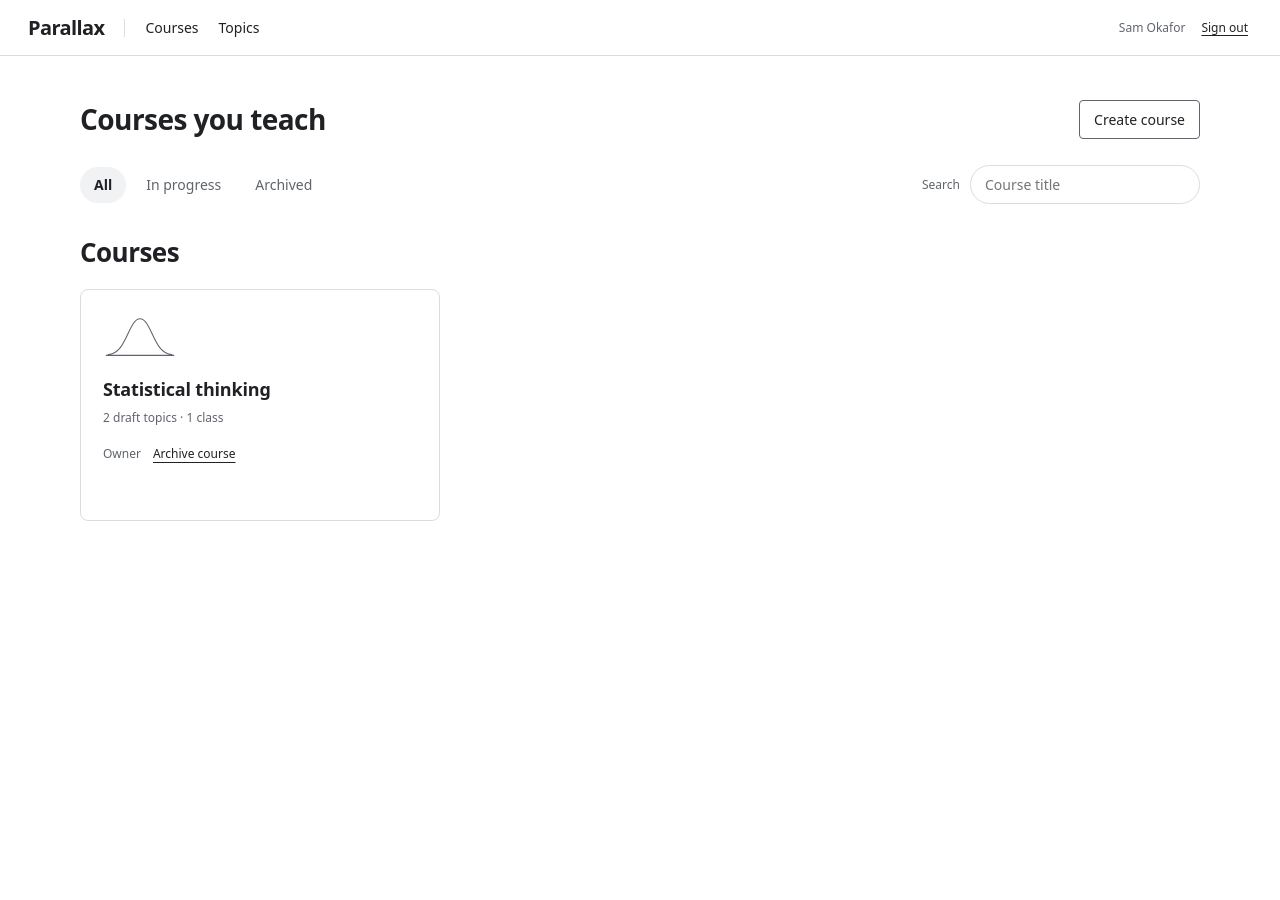
archive and restore › A21 Cancel and Escape do nothing while the request runs, and a failure is shown in the open dialog
This screenshot has width=1280, height=900.
Click the button with aria-label "Archive course Statistical thinking" at (194, 454), box [153,442,236,466]
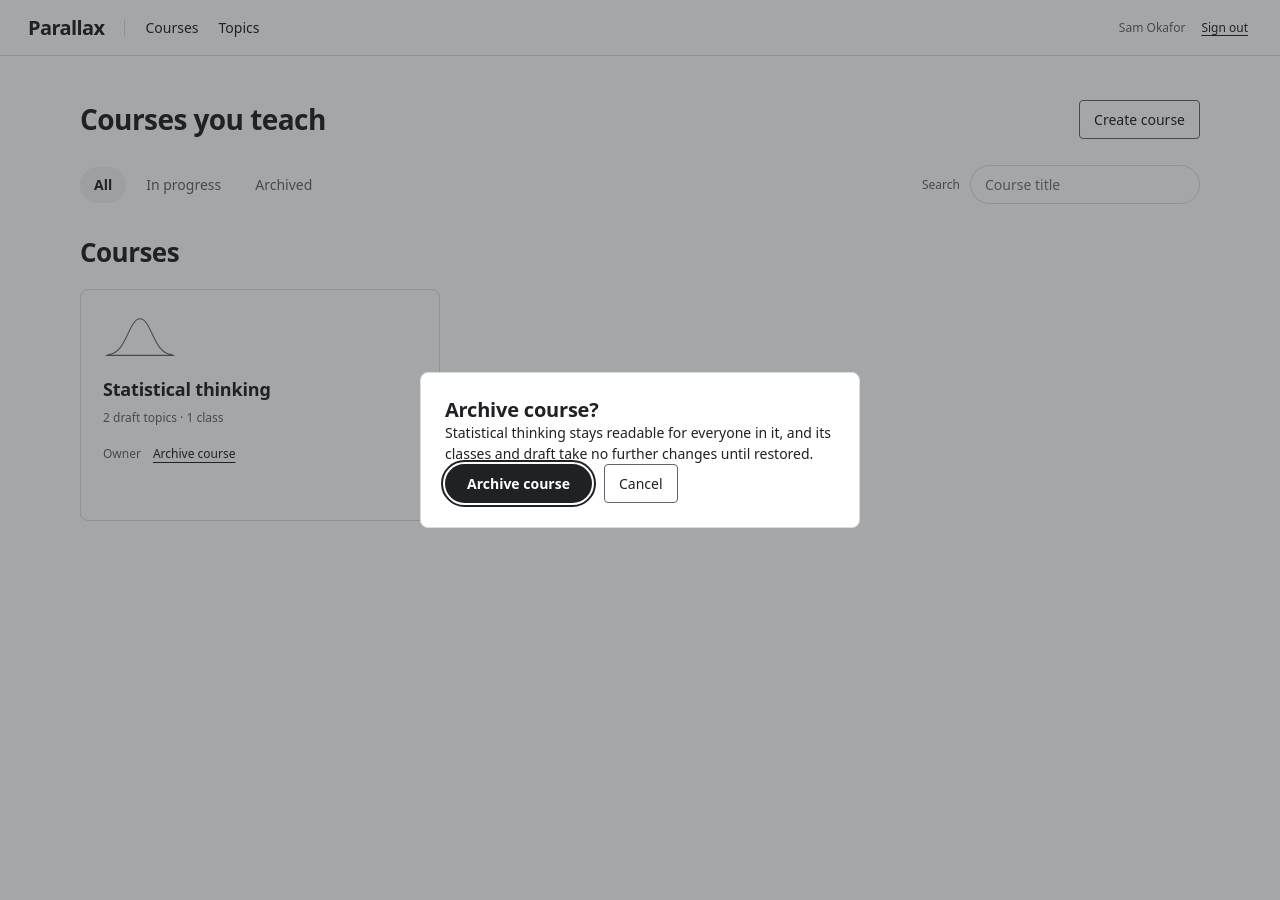
Click the button "Archive course" at (518, 484), box [445,464,592,503]
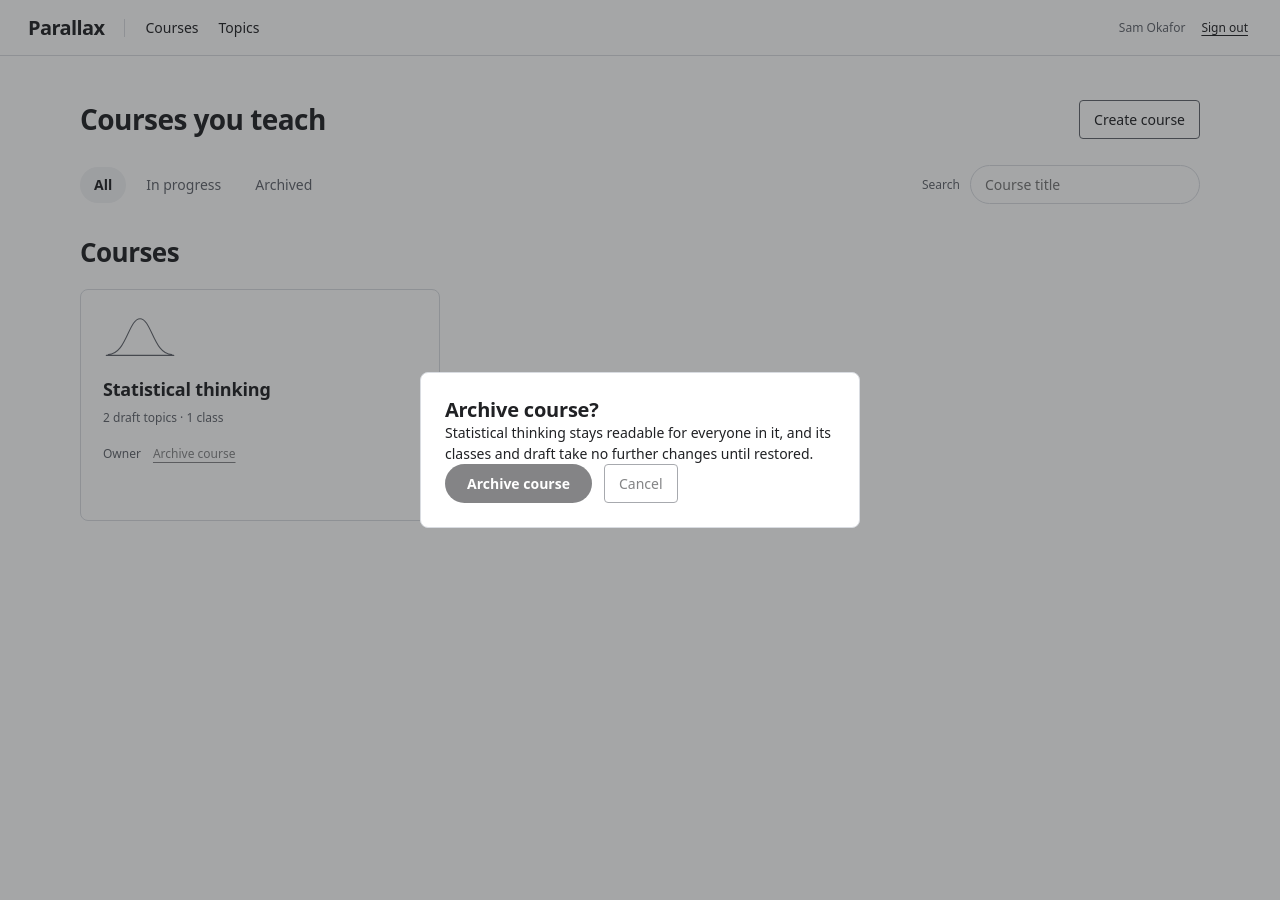
expect the button "Cancel" is disabled: met, box [604,464,678,503]
expect the button with aria-label "Archive course Statistical thinking" is disabled: met, box [153,442,236,466]
Press Escape
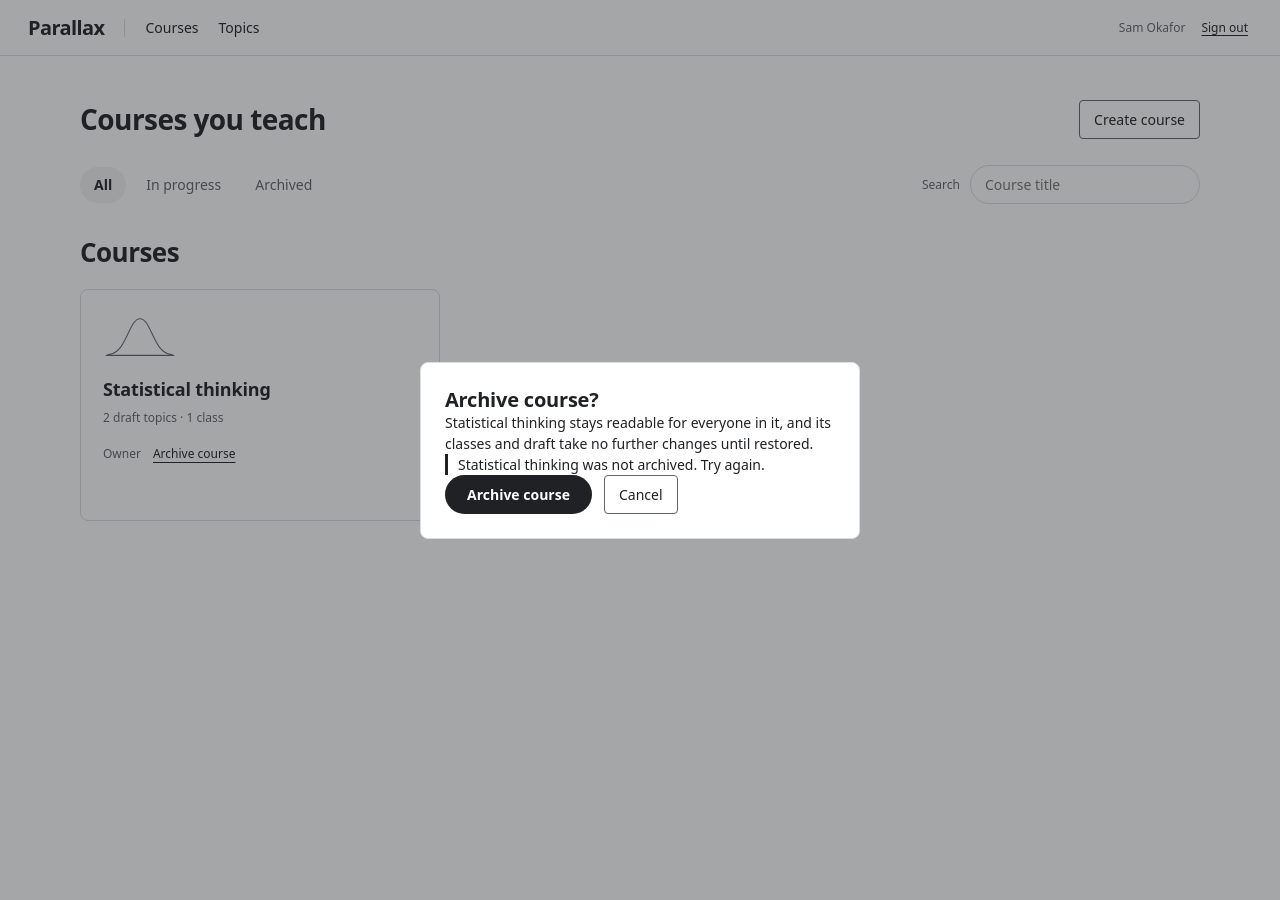
expect the dialog "Archive course?" is shown: met, box [420,362,860,538]
expect the message reads "Statistical thinking was not archived. Try again.": met, box [458,454,765,474]
expect the button "Cancel" is enabled: met
Click the button "Cancel" at (641, 494), box [604,474,678,514]
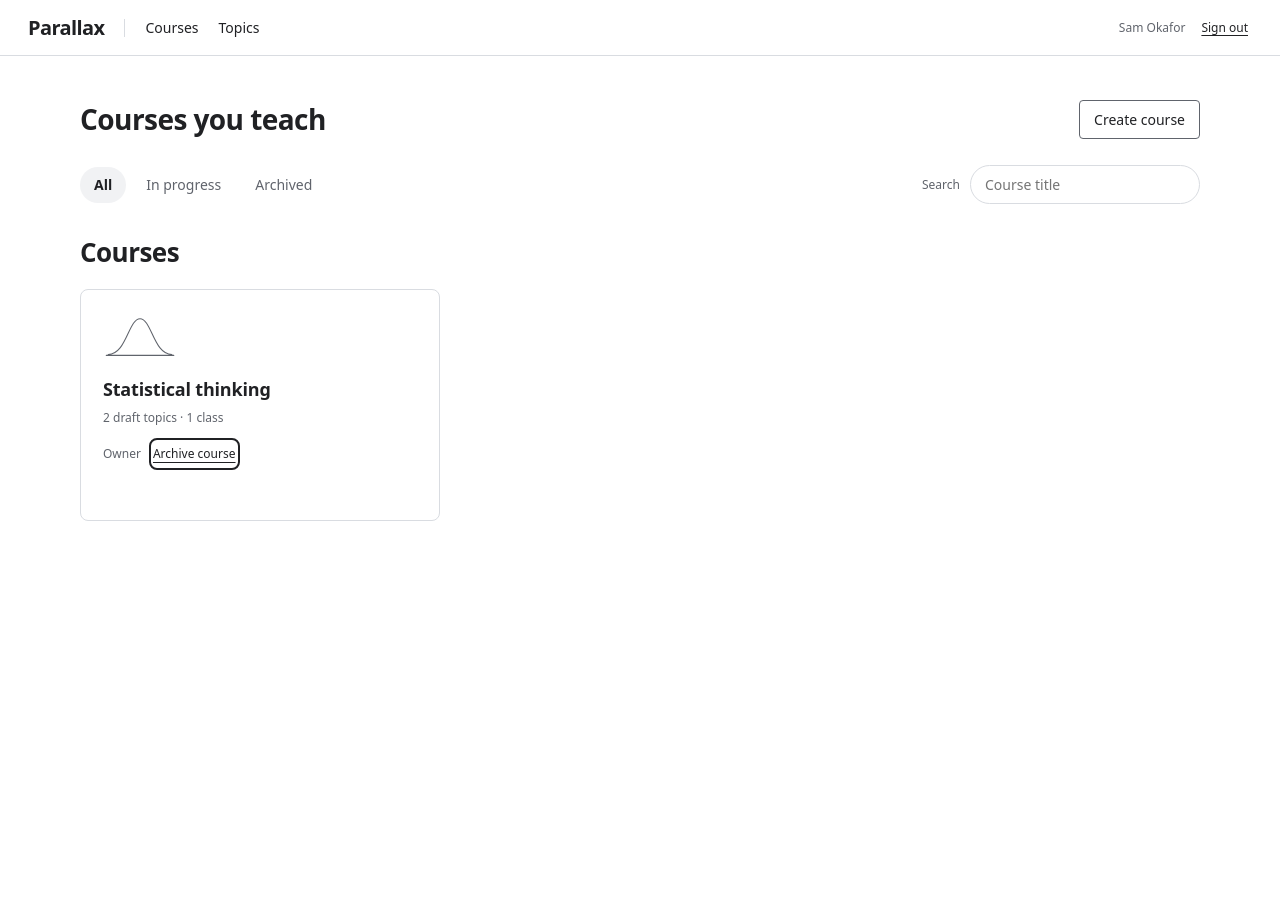
expect the dialog is gone: met
